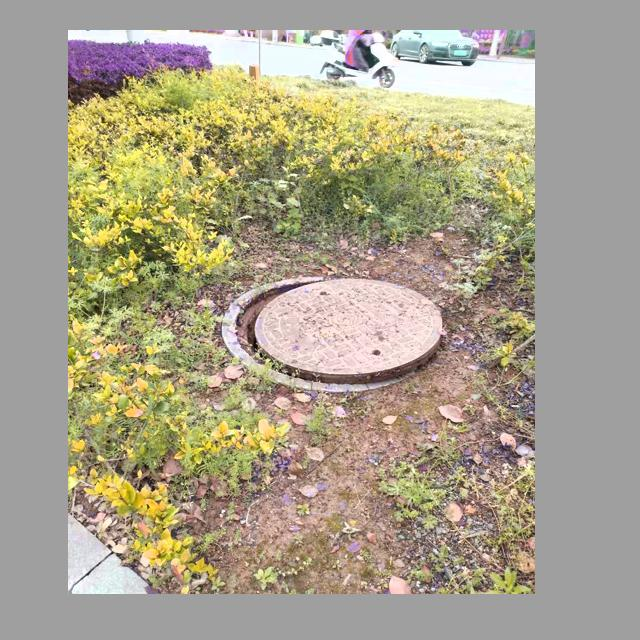uncovered: (222, 276, 441, 391)
